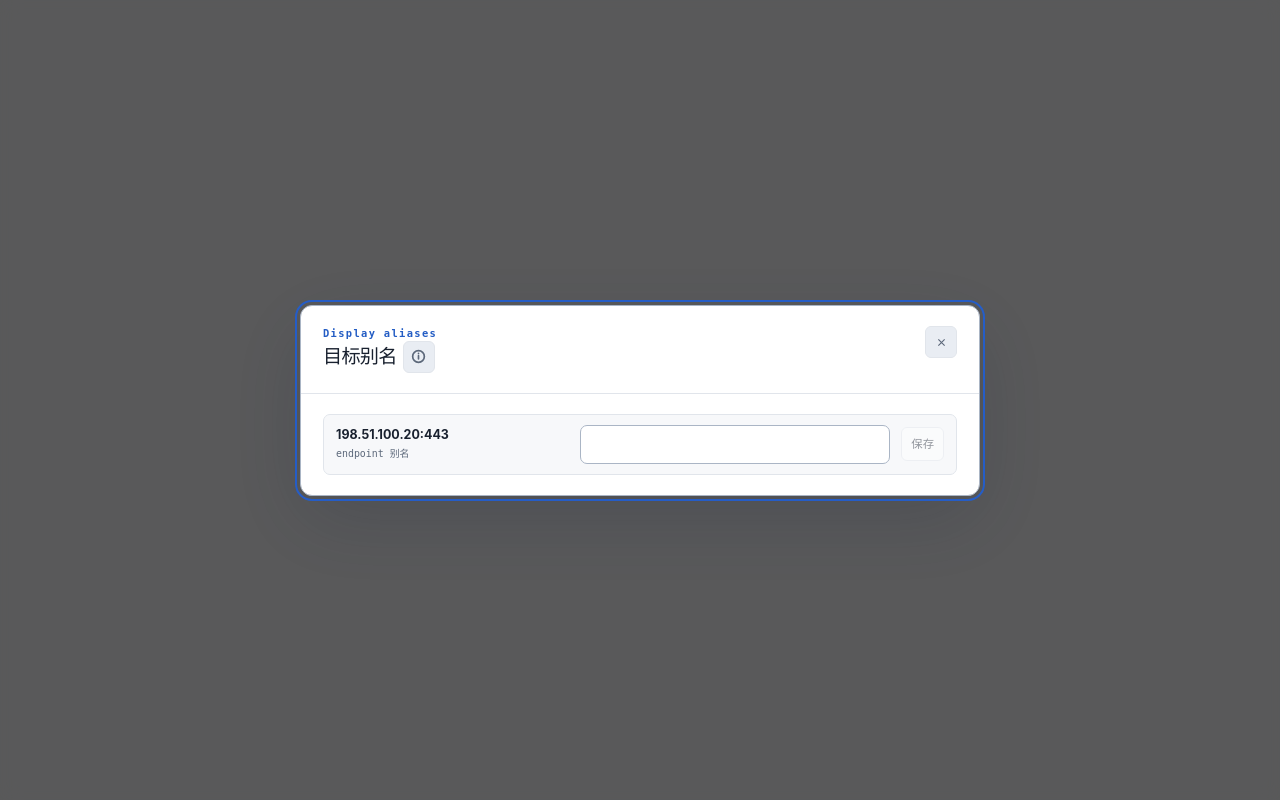
AliasDialog › does not replace server values after a failed write
The width and height of the screenshot is (1280, 800).
In the field named "198.51.100.20:443 显示名称": [735, 444] box top-left (580, 424), bottom-right (890, 463), type "Media"
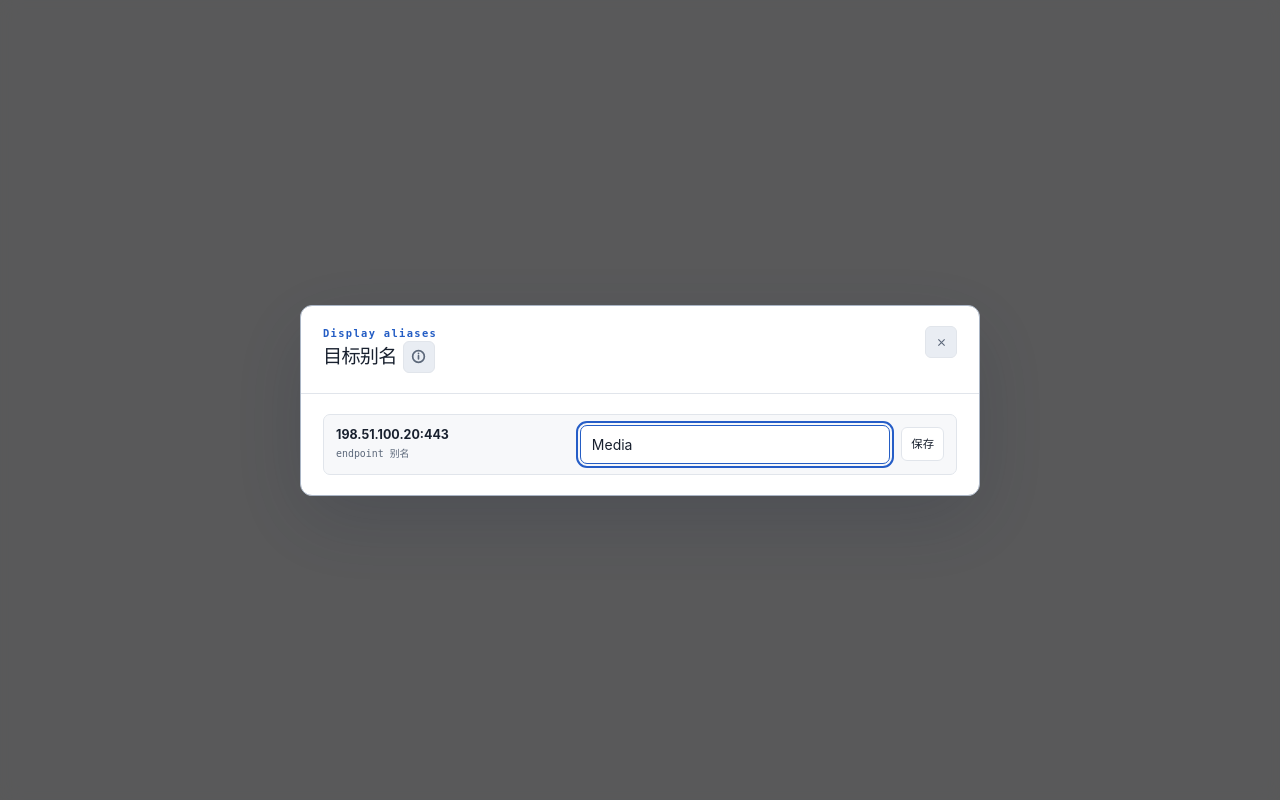
Click the button "保存": [923, 444] box top-left (901, 427), bottom-right (944, 461)
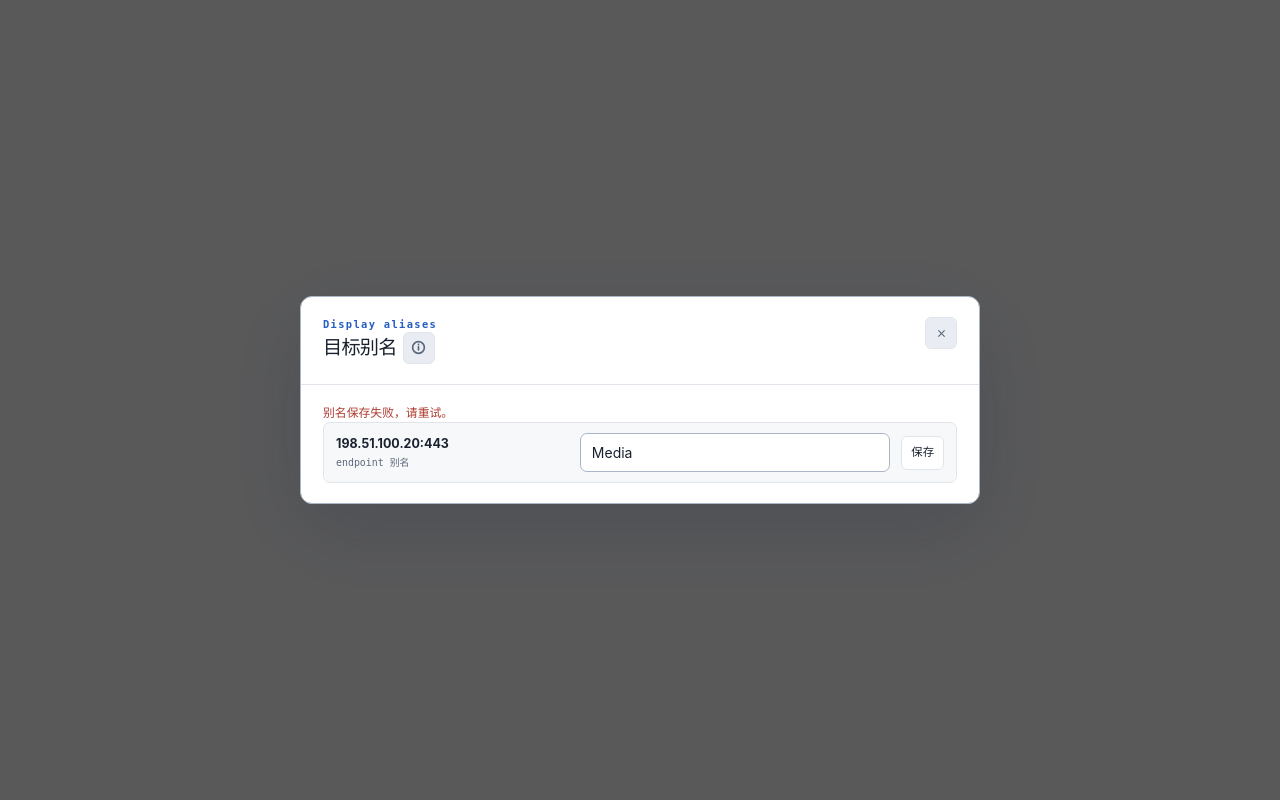
Check: the message reads "别名保存失败，请重试。", box top-left (323, 405), bottom-right (453, 419)
